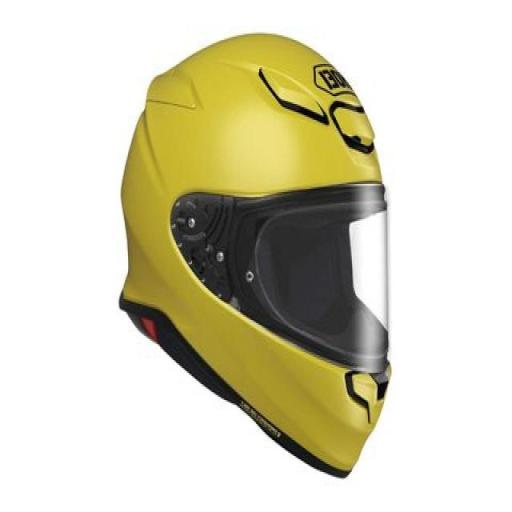Helmet: (120, 35, 390, 475)
